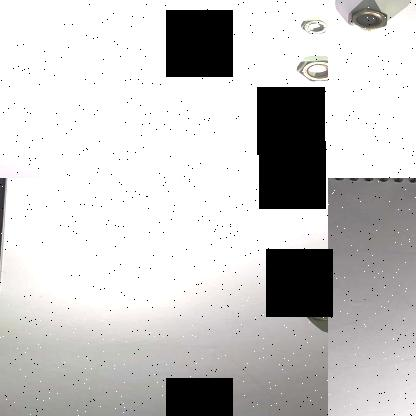NUTS: (336, 6, 394, 34), (293, 56, 328, 84), (297, 295, 328, 323), (296, 17, 328, 37), (303, 253, 328, 275)
